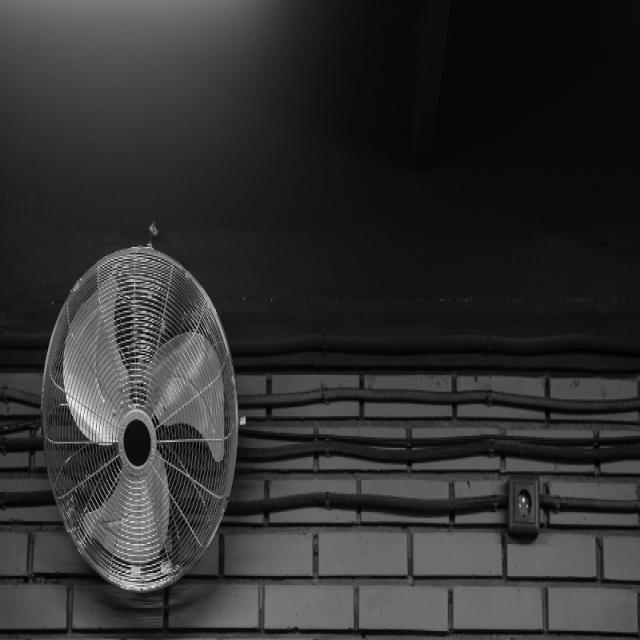fan: (36, 226, 241, 588)
